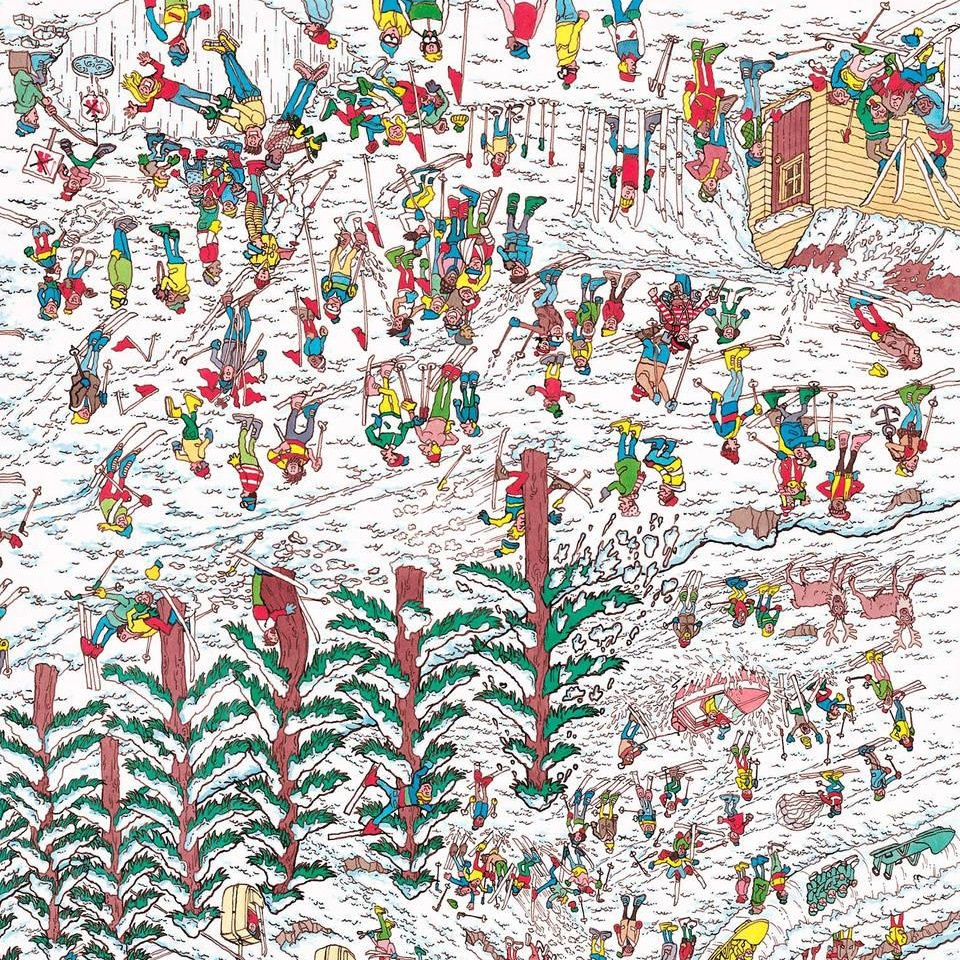waldo: (648, 269, 718, 354)
